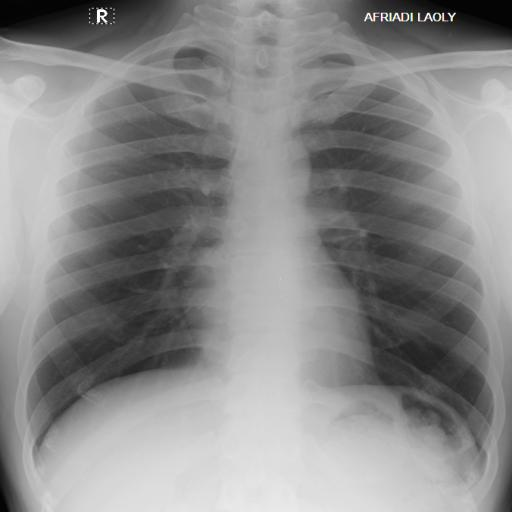normal: (18, 10, 505, 461)
